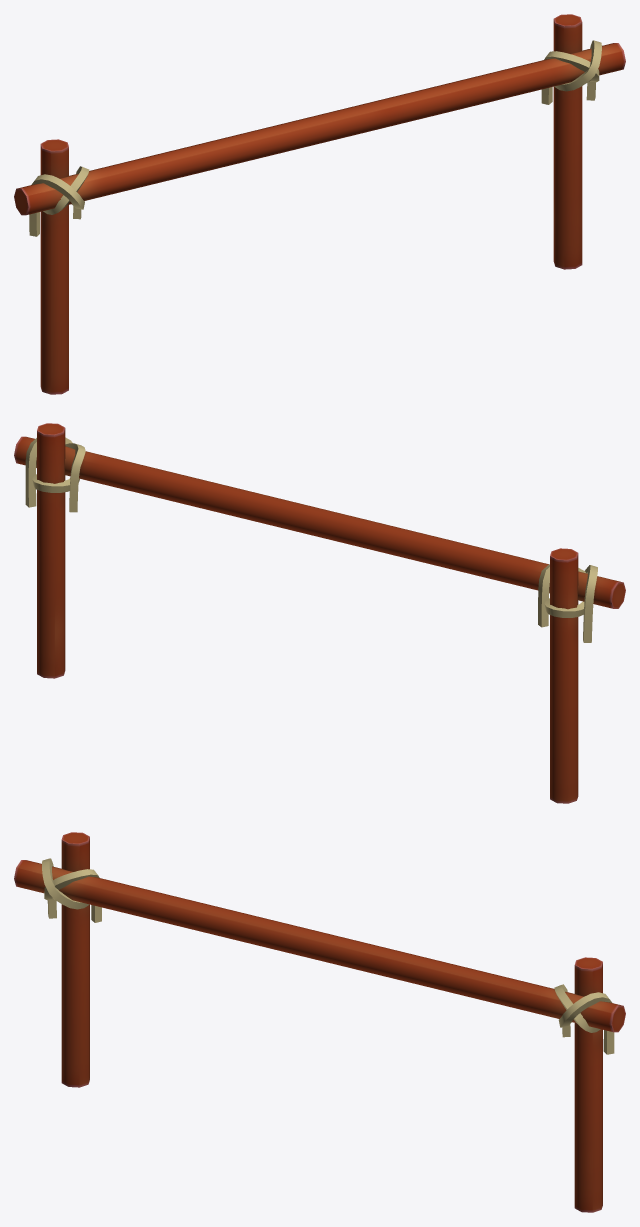
File: Fence.fbx
3 views of the same model, one above another, from view 1: azimuth 30°, elevation 25°; view 2: azimuth 150°, elevation 25°; view 3: azimuth 330°, elevation 25° (orthographic).
Parts seen in each view (by area): view 1: Fence.001; view 2: Fence.001; view 3: Fence.001.
Part boxes in pixels (x1=…): Fence.001: x1=14, y1=14, x2=625, y2=394; Fence.001: x1=14, y1=423, x2=625, y2=803; Fence.001: x1=14, y1=832, x2=625, y2=1212.
Bounding box in the file's own units: 29 × 292 × 114.
2 materials, 2 textured.
